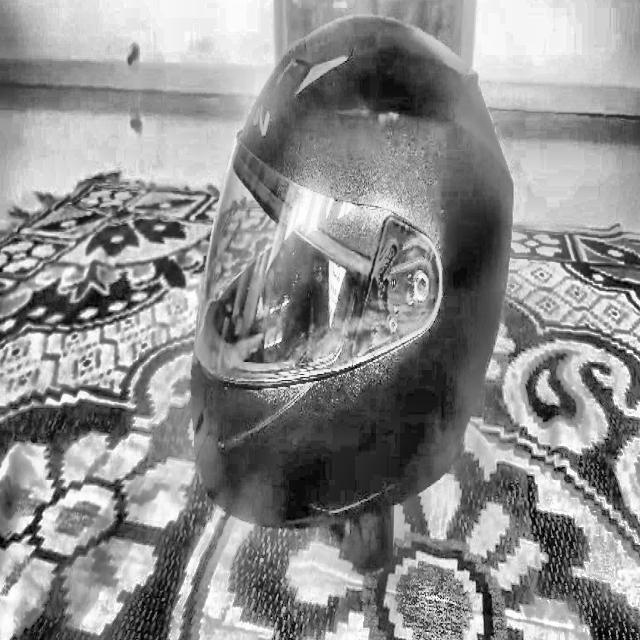Helmet: (185, 18, 520, 522)
